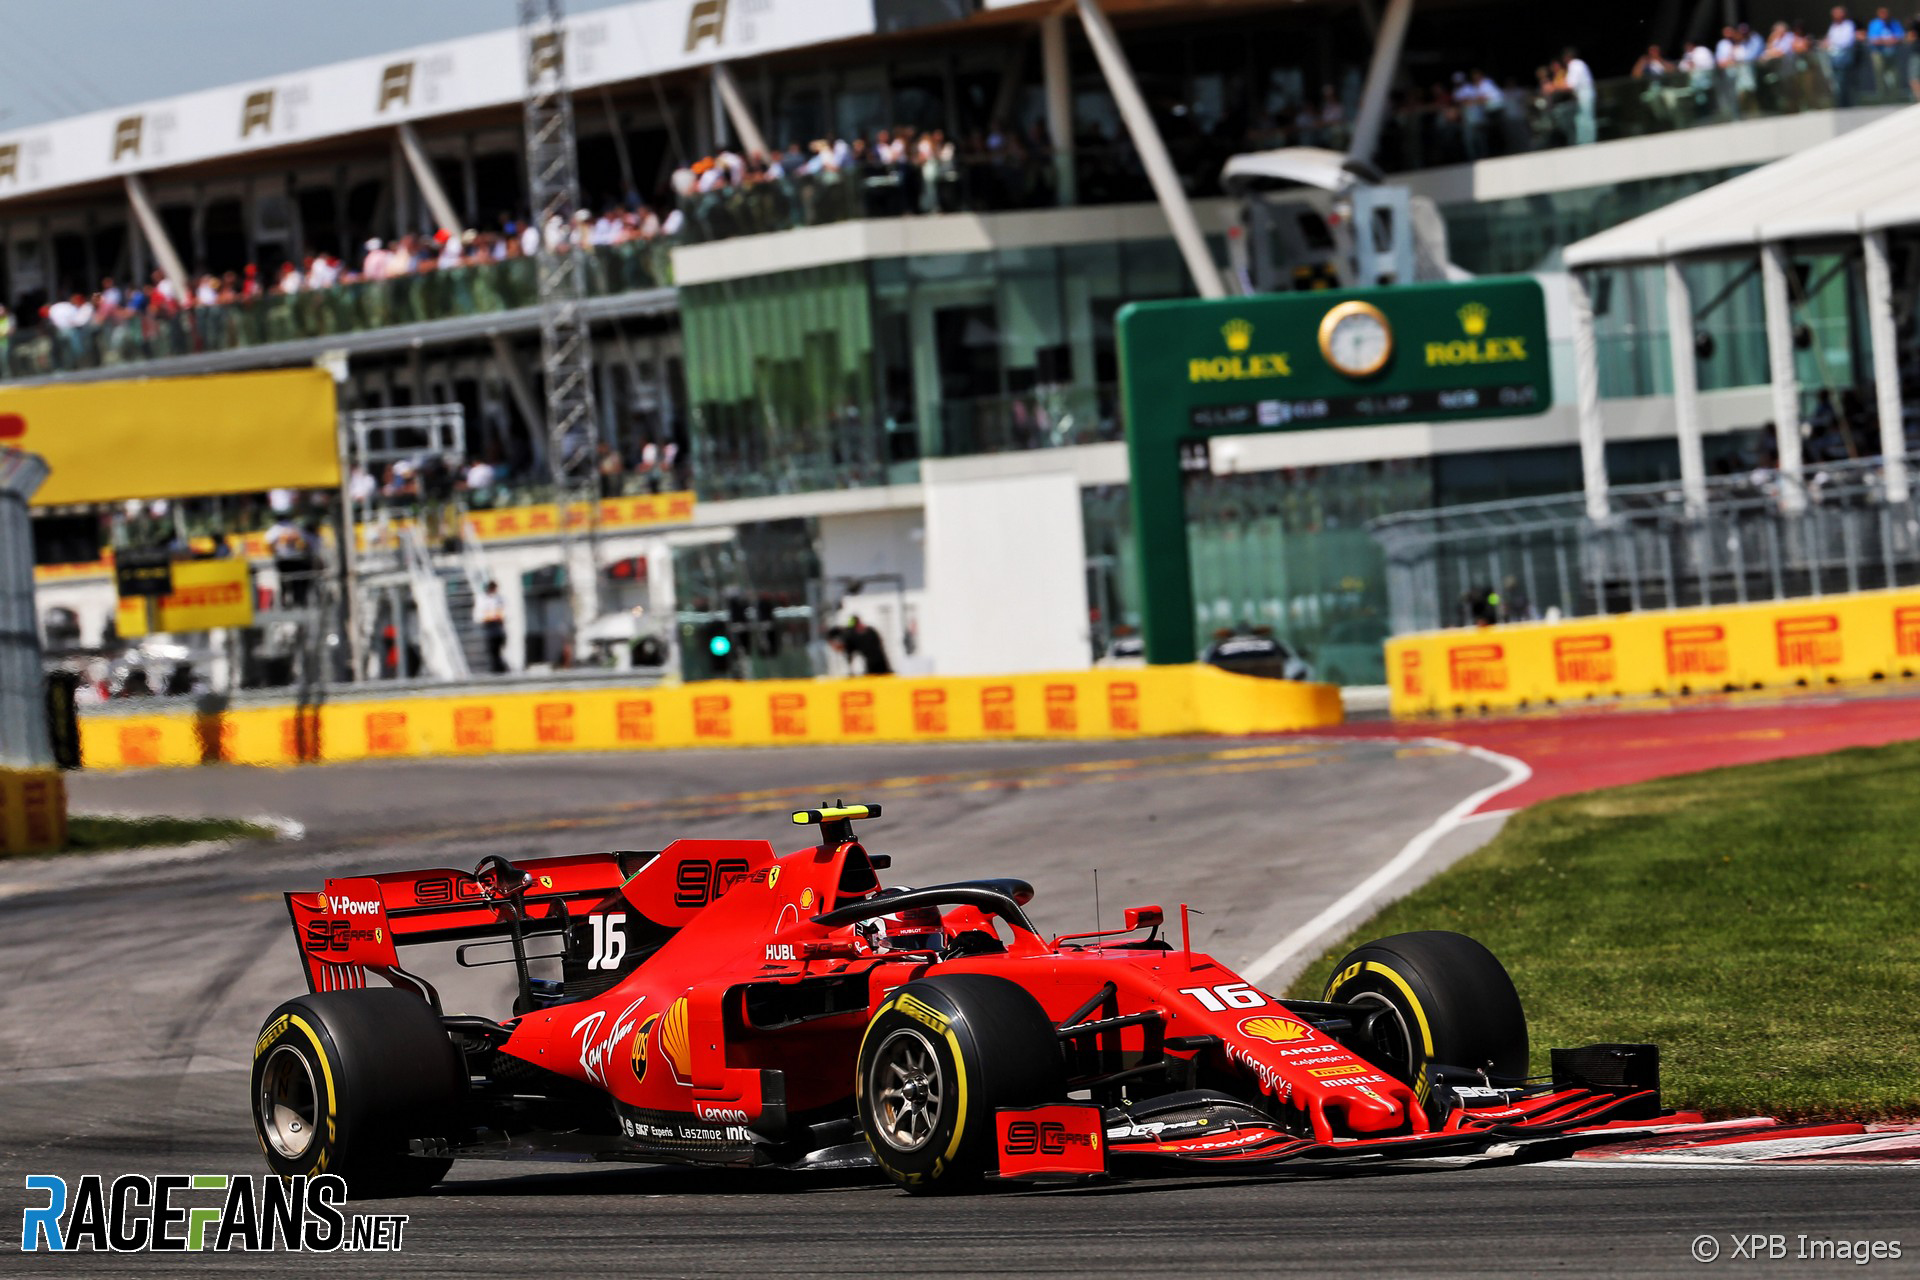F1 Car: (226, 779, 1664, 1204)
